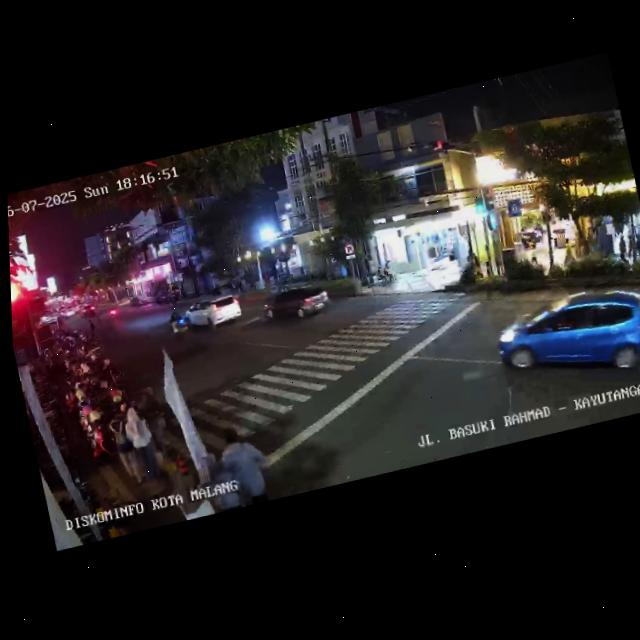car: (488, 278, 640, 406), (258, 276, 334, 330), (177, 290, 245, 339)
motorcycle: (166, 307, 193, 341)
person: (207, 420, 276, 510), (119, 397, 163, 488), (104, 404, 143, 490), (168, 465, 215, 522), (560, 238, 576, 269), (525, 243, 541, 272), (622, 232, 637, 261), (617, 234, 631, 263), (633, 224, 640, 258)
